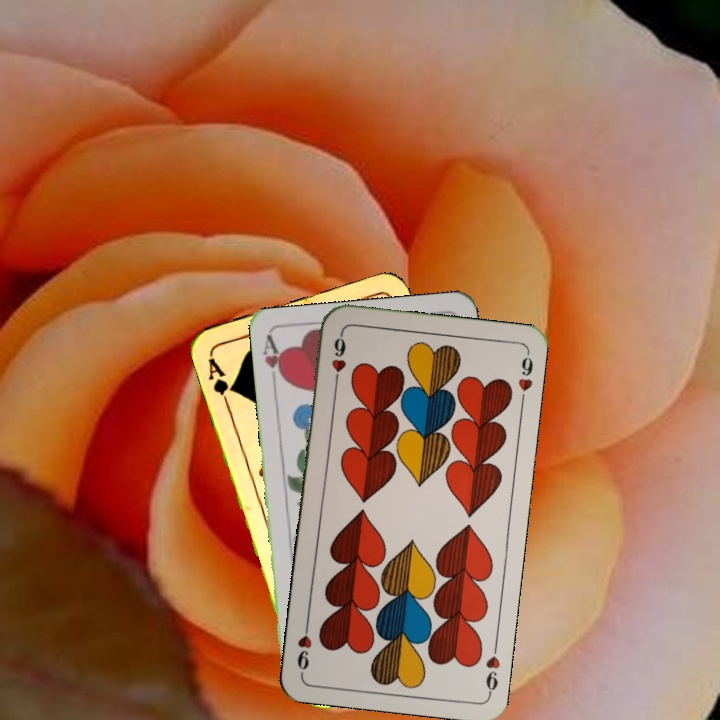GA: (204, 352, 238, 410)
H9: (328, 329, 349, 388), (482, 638, 503, 697)
HA: (258, 333, 288, 392)
